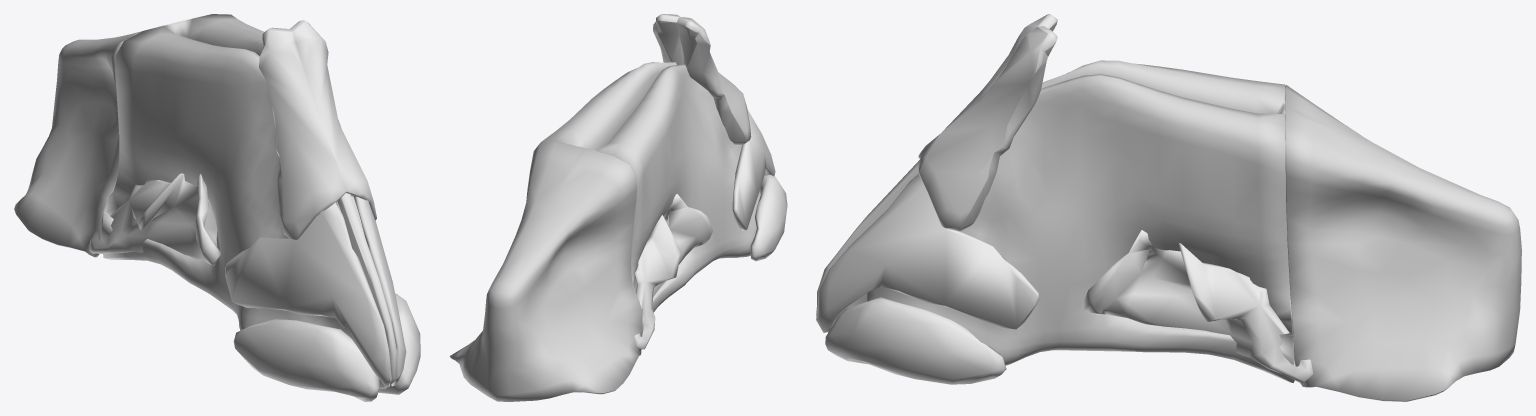
File: nariz.glb
3 renders of one model, left to right at view 1: azimuth 30°, elevation 25°; view 2: azimuth 150°, elevation 25°; view 3: azimuth 270°, elevation 25°, orthographic. The views are drawn at different scales.
Visible parts, largest first — view 1: mucosa, cartilagens, nasofaringe, ossos, conchas; view 2: nasofaringe, mucosa, cartilagens, ossos, conchas; view 3: mucosa, nasofaringe, cartilagens, conchas, ossos.
Boxes of the visible parts, box(x1,y1,x2,y2) form: mucosa: box(101, 14, 364, 337); cartilagens: box(225, 193, 420, 401); nasofaringe: box(14, 14, 230, 257); ossos: box(259, 20, 376, 240); conchas: box(89, 173, 220, 265); nasofaringe: box(449, 142, 642, 401); mucosa: box(541, 62, 760, 334); cartilagens: box(732, 109, 787, 261); ossos: box(653, 14, 751, 145); conchas: box(634, 194, 712, 349); mucosa: box(866, 60, 1294, 382); nasofaringe: box(1284, 85, 1521, 401); cartilagens: box(816, 160, 1039, 384); conchas: box(1084, 230, 1313, 382); ossos: box(918, 14, 1057, 231).
Bounding box in the file's own units: 0.035 × 0.0569 × 0.1061.
4 materials, 1 textured.
